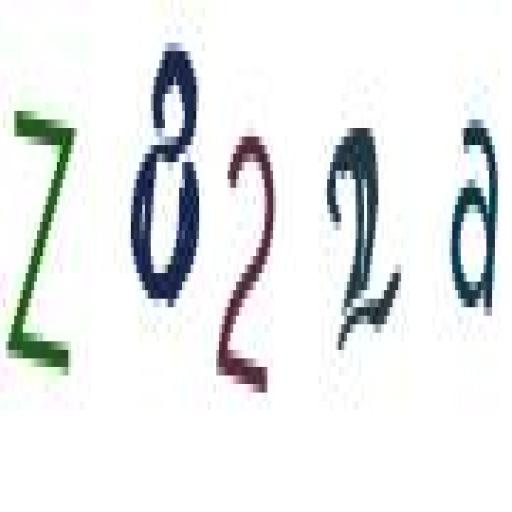2: (322, 90, 412, 376), (213, 110, 281, 417)
8: (125, 22, 206, 325)
Z: (1, 78, 87, 400)
a: (447, 101, 507, 335)
